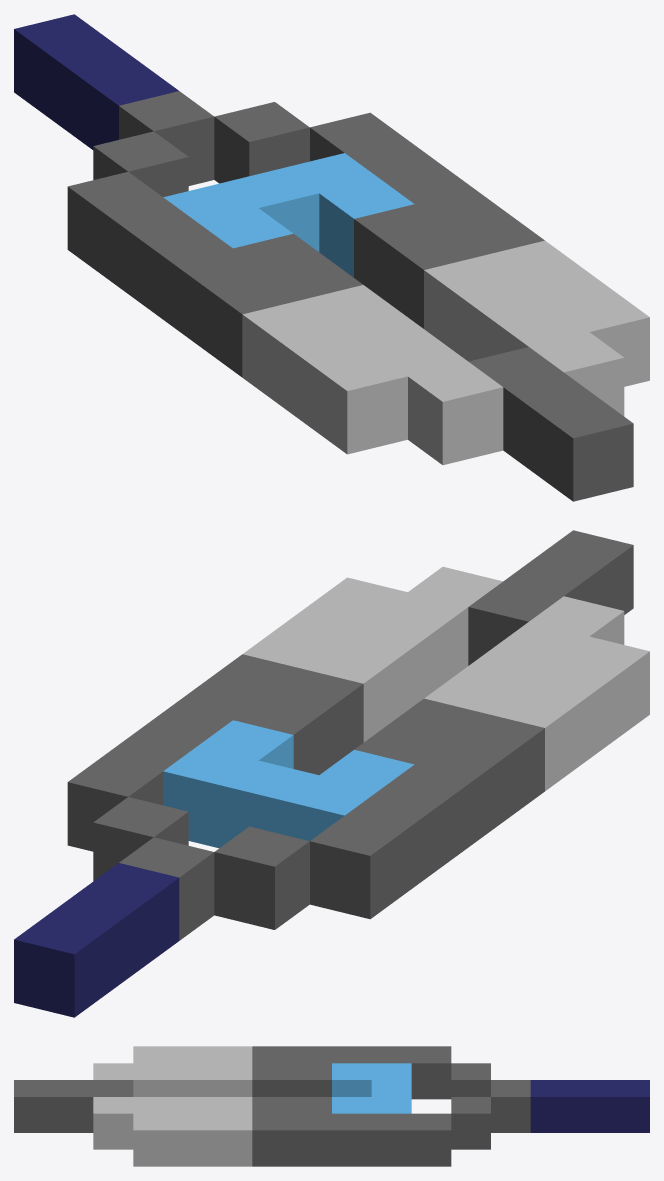
File: speeder_level_3.glb
3 renders of one model, top to bottom at view 1: azimuth 30°, elevation 25°; view 2: azimuth 150°, elevation 25°; view 3: azimuth 270°, elevation 25°, orthographic. The views are drawn at different scales.
Size of the model in its own units: 5 by 1 by 16.
